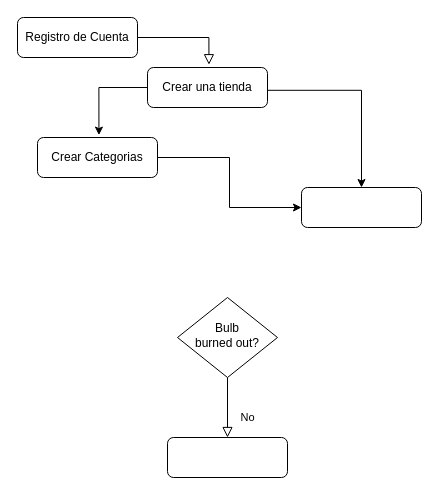
The diagram is 439 pixels wide and 495 high, and some of its shapes have lost their labels. The shapes that lost their labels are listed below. From the top down, each one's centre as x and y in pixels, then its label:
At point (361, 207): "Crear Productos".
At point (227, 457): "Repair Lamp".
